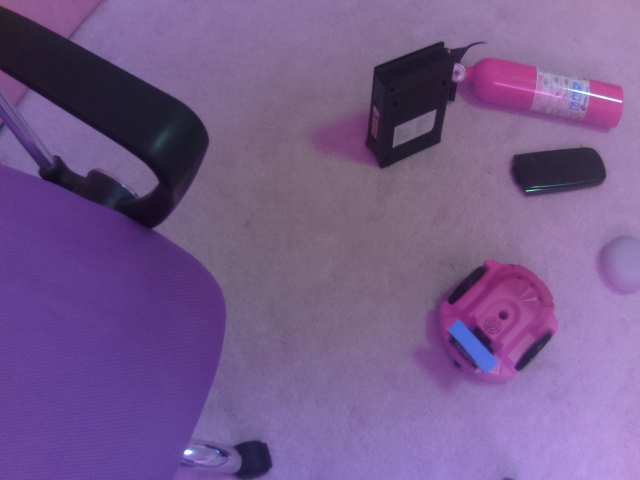board: (442, 314, 501, 378)
chassis: (428, 250, 565, 385)
